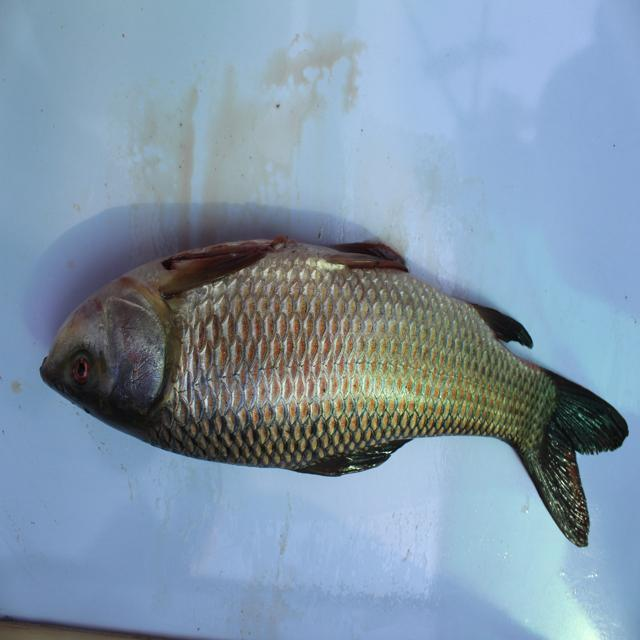Rohu: (26, 236, 628, 547)
